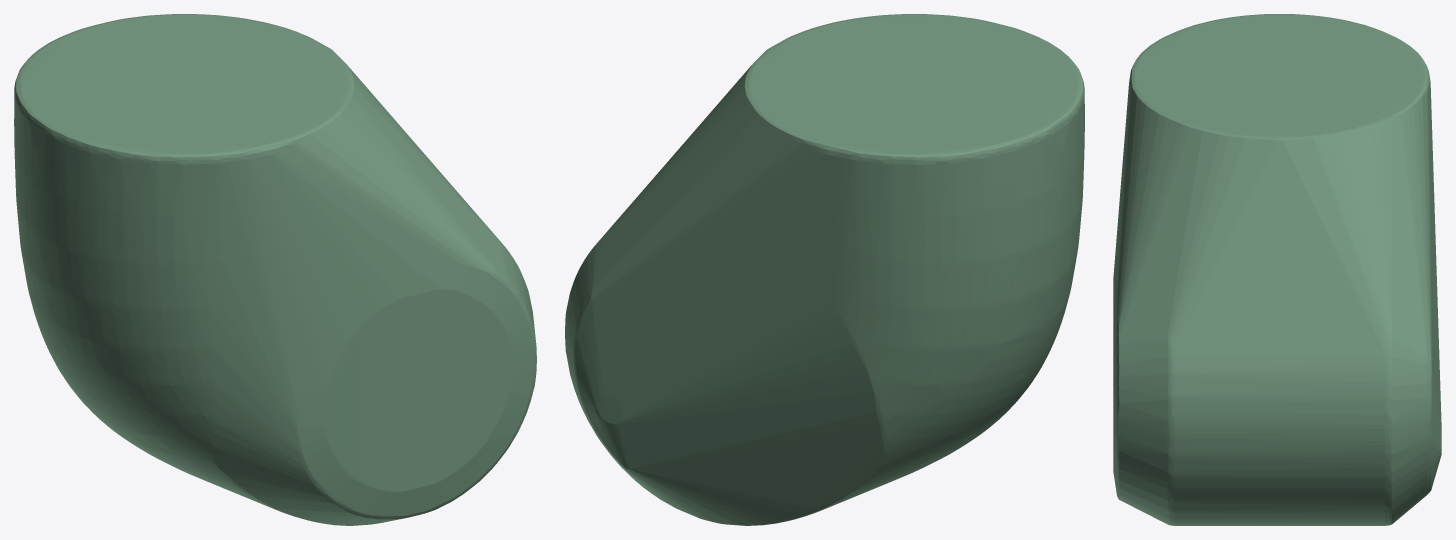
File: R_arm_l1.obj
3 views of the same model, side by side, from view 1: azimuth 30°, elevation 25°; view 2: azimuth 150°, elevation 25°; view 3: azimuth 270°, elevation 25° (orthographic). The views are drawn at different scales.
Parts seen in each view (by area): view 1: geometry_0; view 2: geometry_0; view 3: geometry_0.
Boxes of the visible parts, bbox=[...] form: geometry_0: bbox=[14, 14, 536, 525]; geometry_0: bbox=[565, 14, 1084, 525]; geometry_0: bbox=[1113, 14, 1441, 525].
Bounding box in the file's own units: 0.1253 × 0.1173 × 0.0929.
